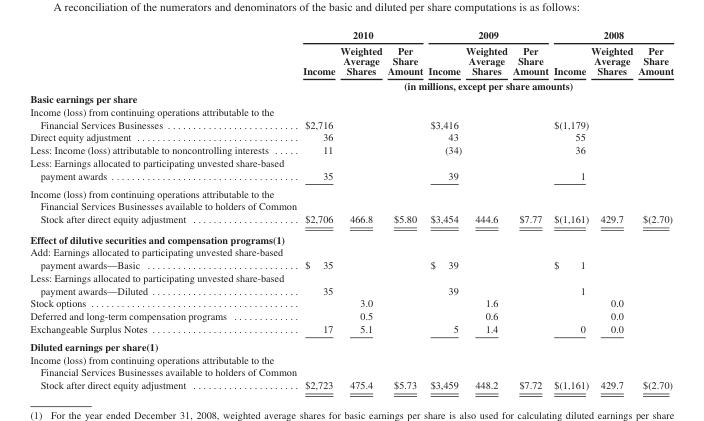table: (29, 28, 673, 390)
table column: (29, 28, 299, 390), (337, 28, 384, 390), (463, 28, 509, 390), (589, 28, 634, 390), (509, 28, 550, 390), (384, 28, 424, 390), (424, 28, 463, 390), (550, 28, 589, 390), (634, 28, 673, 390), (299, 28, 337, 390)
table column header: (29, 28, 673, 92)
table projected row header: (29, 228, 673, 245), (29, 337, 673, 352), (29, 92, 673, 104)
table row: (29, 184, 673, 228), (29, 352, 673, 390), (29, 42, 673, 78), (29, 156, 673, 184), (29, 104, 673, 130), (29, 245, 673, 271), (29, 271, 673, 296), (29, 228, 673, 245), (29, 322, 673, 337), (29, 337, 673, 352), (29, 28, 673, 42), (29, 78, 673, 92), (29, 130, 673, 143), (29, 143, 673, 156), (29, 296, 673, 309), (29, 309, 673, 322), (29, 92, 673, 104)
table spanning cell: (299, 78, 673, 92), (424, 28, 550, 42), (299, 28, 424, 42), (550, 28, 673, 42)
